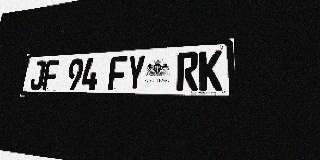4: (81, 57, 100, 90)
9: (66, 58, 84, 90)
F: (108, 56, 128, 90), (42, 60, 59, 90)
J: (29, 60, 46, 90)
K: (199, 50, 223, 91)
R: (176, 51, 199, 91)
Y: (125, 55, 146, 90)
